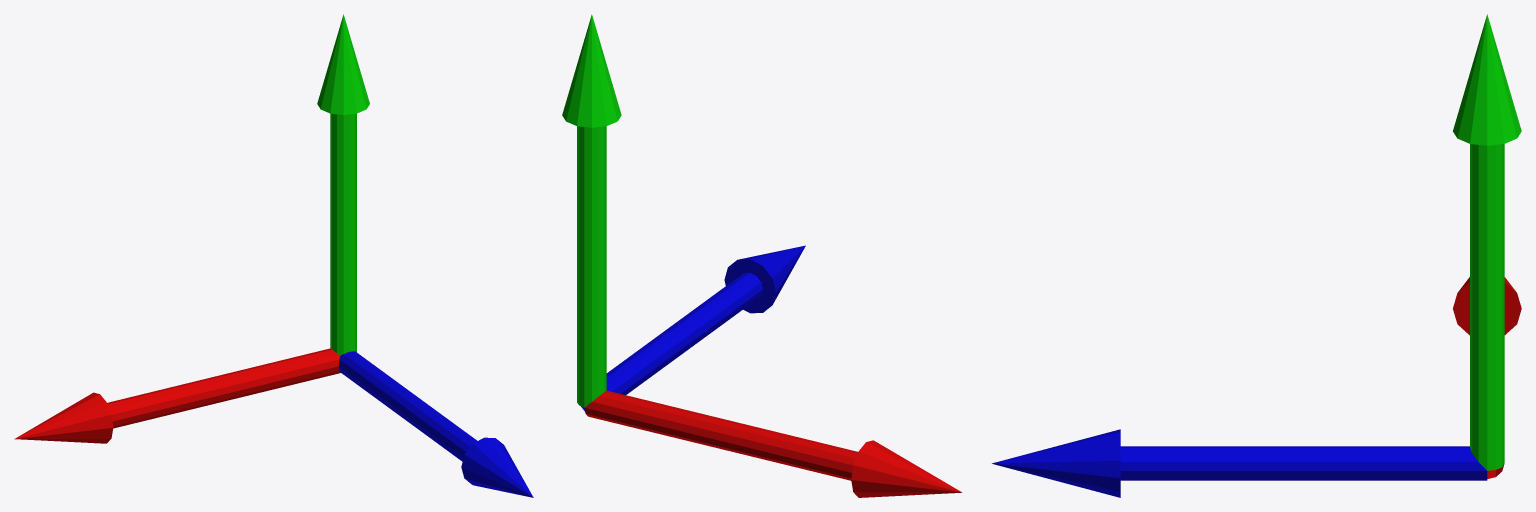
File: SM_AxisArrow.fbx
3 views of the same model, side by side, from view 1: azimuth 30°, elevation 25°; view 2: azimuth 150°, elevation 25°; view 3: azimuth 270°, elevation 25° (orthographic). The views are drawn at different scales.
Visible parts, largest first — view 1: SM_AxisArrow; view 2: SM_AxisArrow; view 3: SM_AxisArrow.
Part boxes in pixels (x1=…): SM_AxisArrow: x1=14, y1=14, x2=533, y2=497; SM_AxisArrow: x1=562, y1=14, x2=961, y2=497; SM_AxisArrow: x1=992, y1=14, x2=1521, y2=497.
Size of the model in its own units: 1.23 by 1.23 by 1.23.
